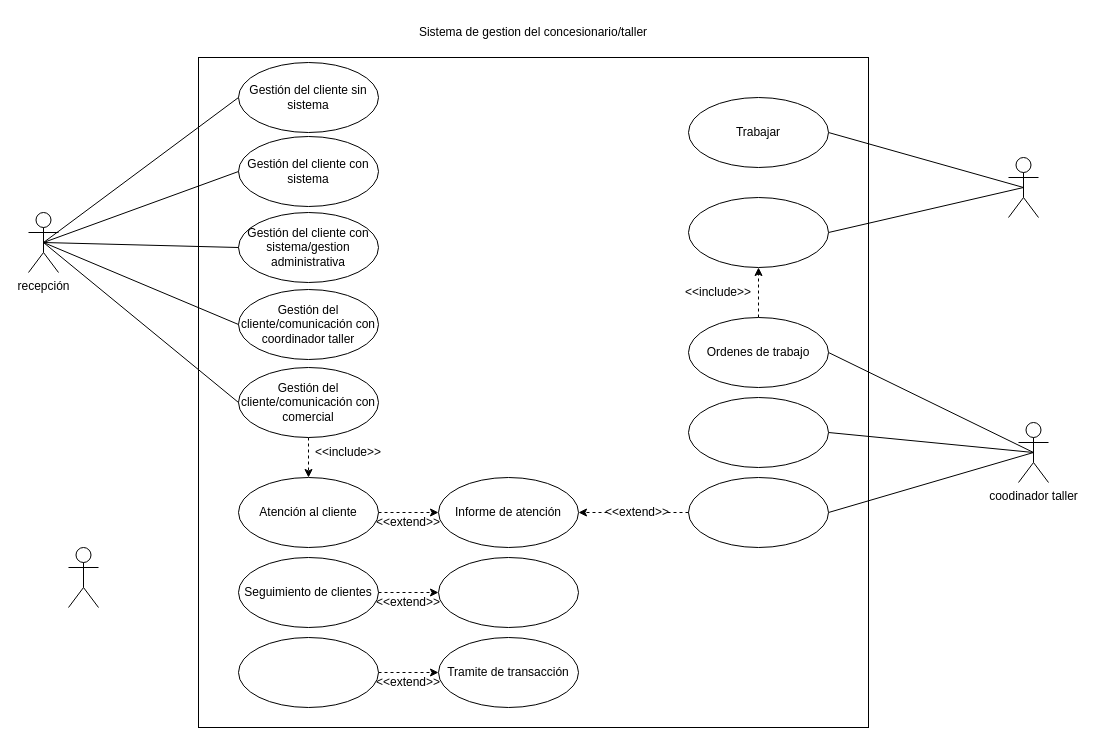
Some shapes in this 1095 by 745 pixel diagram are drawn without their labels. The shapes that lost their labels are listed below. From the top down, each one's centre as x and y in pixels, then its label:
At point 1023,187: "mecanico".
At point 758,232: "Recibir ordenes de trabajo".
At point 758,432: "Planificar entregas".
At point 758,512: "Atención cliente".
At point 83,577: "comercial".
At point 508,592: "Informe de seguimiento".
At point 308,672: "Operación comercial".
